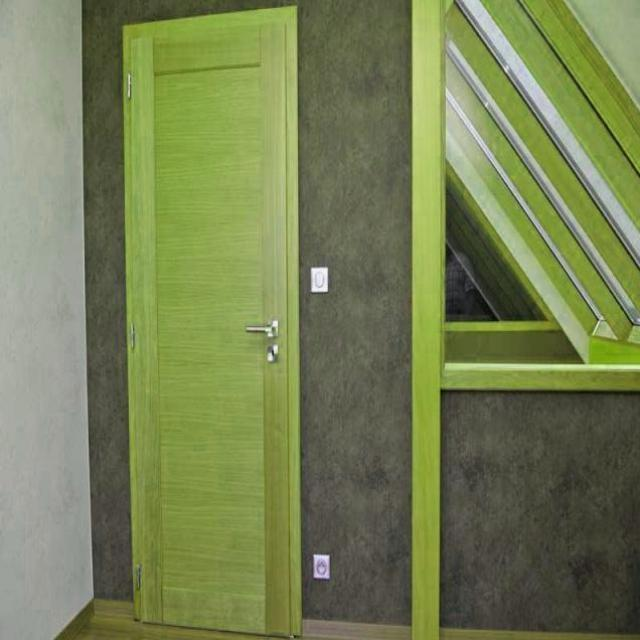door: (121, 5, 301, 637)
